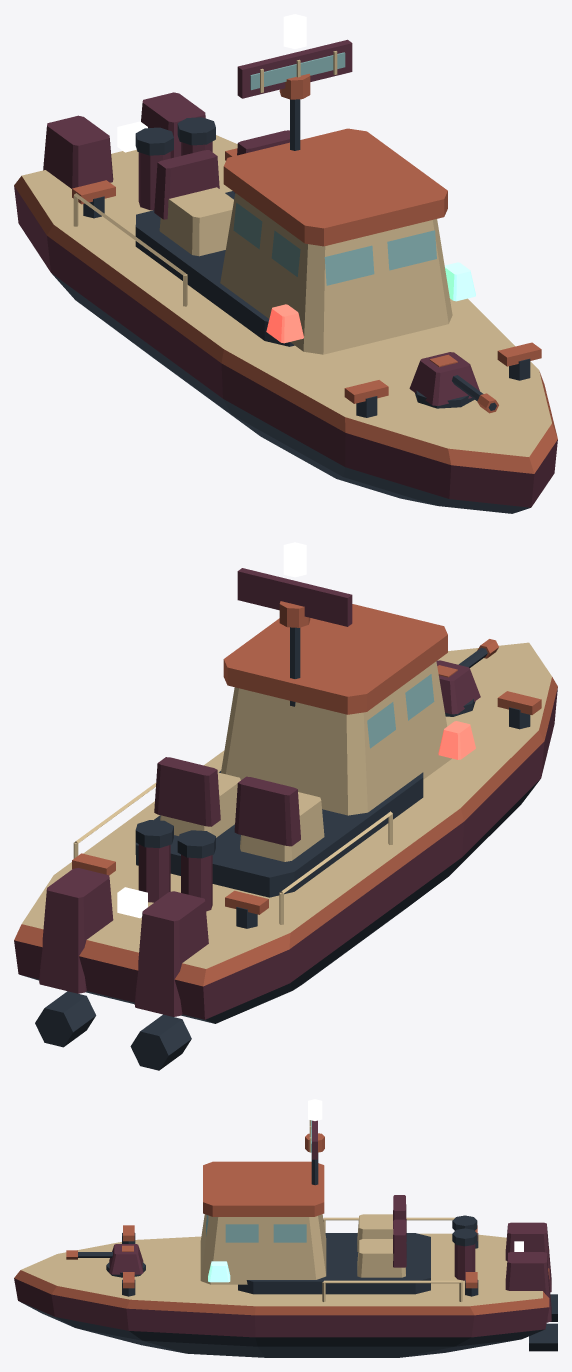
File: speedboat-enemy.glb
3 views of the same model, one above another, from view 1: azimuth 30°, elevation 25°; view 2: azimuth 150°, elevation 25°; view 3: azimuth 270°, elevation 25° (orthographic). The views are drawn at different scales.
Parts seen in each view (by area): view 1: hull, radar, funnel, turret, port_light, starboard_light, mast_light, barrel; view 2: hull, funnel, radar, turret, port_light, mast_light, stern_light; view 3: hull, funnel, turret, radar, starboard_light, barrel.
Boxes of the visible parts, box(x1,y1,x2,y2) form: hull: box(14, 92, 557, 513); radar: box(237, 39, 352, 99); funnel: box(135, 117, 215, 210); turret: box(409, 352, 479, 408); port_light: box(266, 304, 303, 343); starboard_light: box(444, 262, 475, 301); mast_light: box(283, 14, 306, 48); barrel: box(452, 375, 498, 413); hull: box(14, 604, 557, 1070); funnel: box(135, 820, 215, 911); radar: box(237, 568, 352, 627); turret: box(436, 660, 480, 716); port_light: box(438, 721, 475, 759); mast_light: box(283, 542, 306, 577); stern_light: box(117, 887, 147, 918); hull: box(14, 1153, 557, 1357); funnel: box(452, 1215, 477, 1280); turret: box(106, 1244, 145, 1277); radar: box(305, 1120, 324, 1159); starboard_light: box(208, 1261, 230, 1282); barrel: box(66, 1250, 112, 1259).
Bounding box in the file's own units: 1.27 × 1.85 × 3.92.
